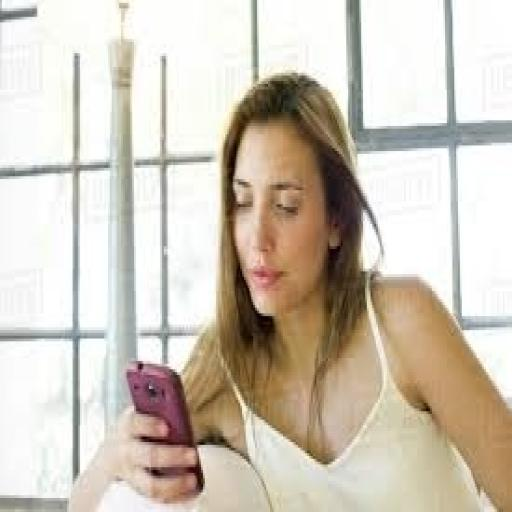texting: (63, 67, 510, 509)
